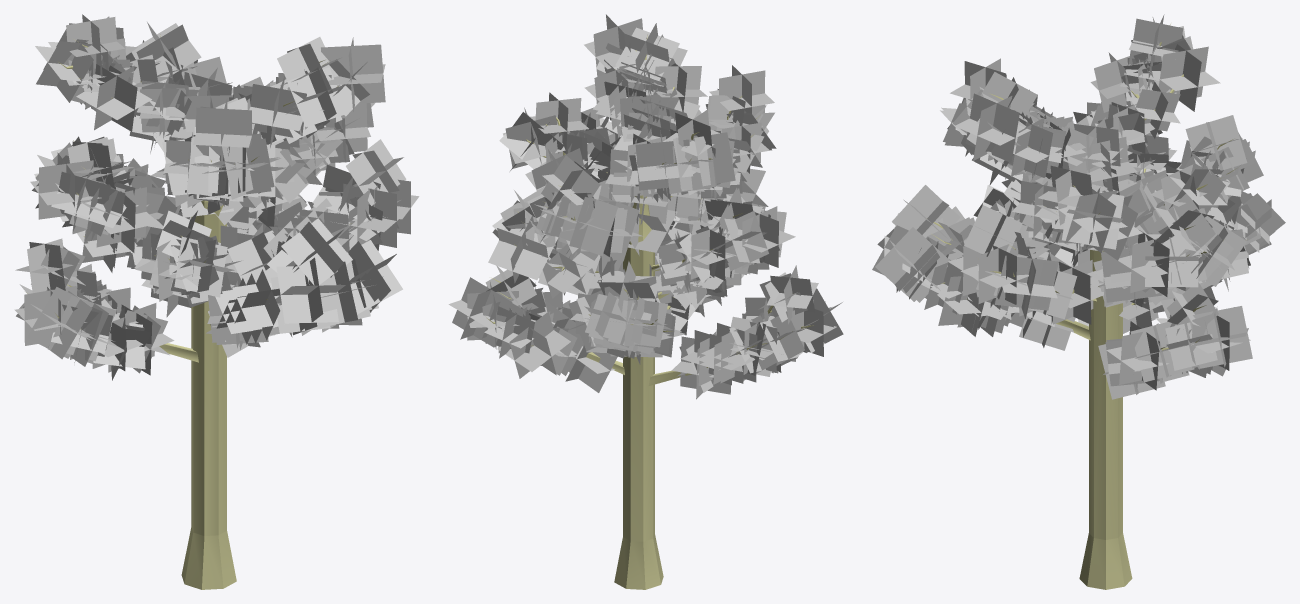
Rendered from Dau_Short_2.fbx.
3 renders of one model, left to right at view 1: azimuth 30°, elevation 25°; view 2: azimuth 150°, elevation 25°; view 3: azimuth 270°, elevation 25°, orthographic. The views are drawn at different scales.
Parts seen in each view (by area): view 1: Leaves_LOD0, Trunk_LOD0; view 2: Leaves_LOD0, Trunk_LOD0; view 3: Leaves_LOD0, Trunk_LOD0.
Part boxes in pixels (bbox=[...]): Leaves_LOD0: bbox=[14, 14, 419, 380]; Trunk_LOD0: bbox=[26, 35, 351, 589]; Leaves_LOD0: bbox=[448, 14, 843, 399]; Trunk_LOD0: bbox=[486, 35, 814, 589]; Leaves_LOD0: bbox=[872, 14, 1285, 399]; Trunk_LOD0: bbox=[932, 24, 1236, 589].
Size of what is drawn, in the model's own units: 2484 by 3676 by 2623.
